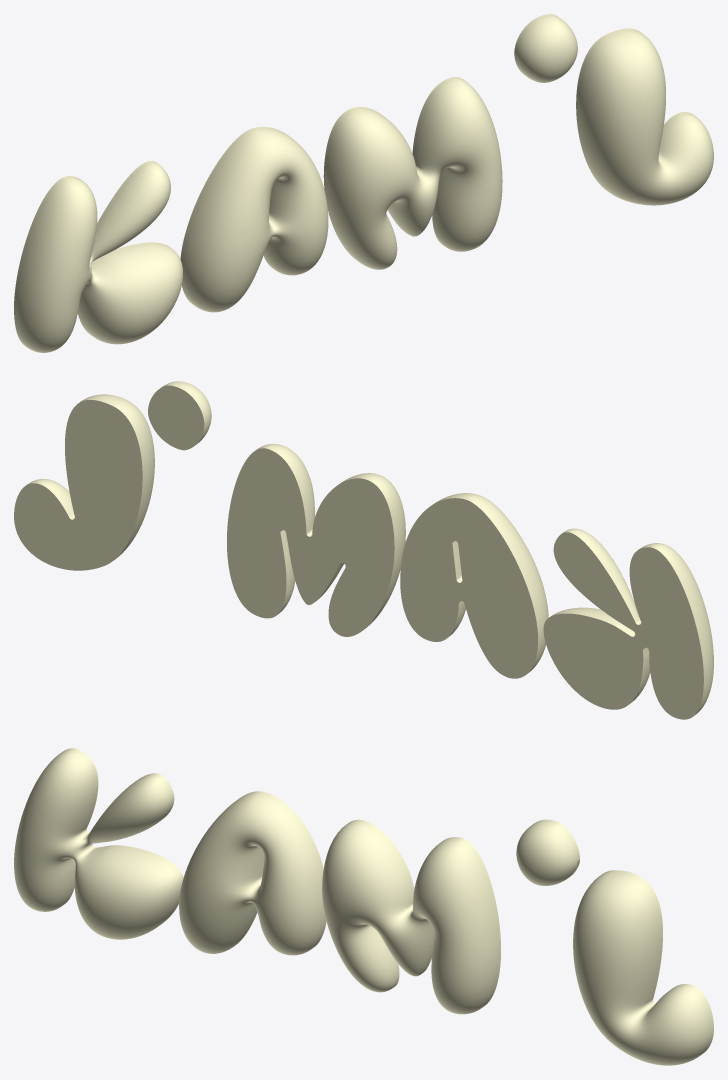
Rendered from kamil1.obj.
3 renders of one model, top to bottom at view 1: azimuth 30°, elevation 25°; view 2: azimuth 150°, elevation 25°; view 3: azimuth 330°, elevation 25°, orthographic.
Visible parts, largest first — view 1: groupNumber_1, groupNumber_3, groupNumber_2, groupNumber_0, groupNumber_4; view 2: groupNumber_1, groupNumber_3, groupNumber_2, groupNumber_0, groupNumber_4; view 3: groupNumber_1, groupNumber_3, groupNumber_2, groupNumber_0, groupNumber_4.
Boxes of the visible parts, left/top/right/bottom form: groupNumber_1: left=323, top=77, right=502, bottom=269; groupNumber_3: left=14, top=161, right=182, bottom=352; groupNumber_2: left=180, top=127, right=328, bottom=312; groupNumber_0: left=576, top=28, right=713, bottom=205; groupNumber_4: left=514, top=14, right=577, bottom=82; groupNumber_1: left=227, top=443, right=405, bottom=636; groupNumber_3: left=543, top=528, right=713, bottom=719; groupNumber_2: left=400, top=493, right=548, bottom=678; groupNumber_0: left=14, top=394, right=154, bottom=570; groupNumber_4: left=148, top=381, right=211, bottom=450; groupNumber_1: left=322, top=819, right=500, bottom=1014; groupNumber_3: left=14, top=748, right=183, bottom=939; groupNumber_2: left=179, top=791, right=326, bottom=955; groupNumber_0: left=573, top=870, right=713, bottom=1065; groupNumber_4: left=516, top=819, right=579, bottom=885.
Bounding box in the file's own units: 58.17 × 17.49 × 4.38.
